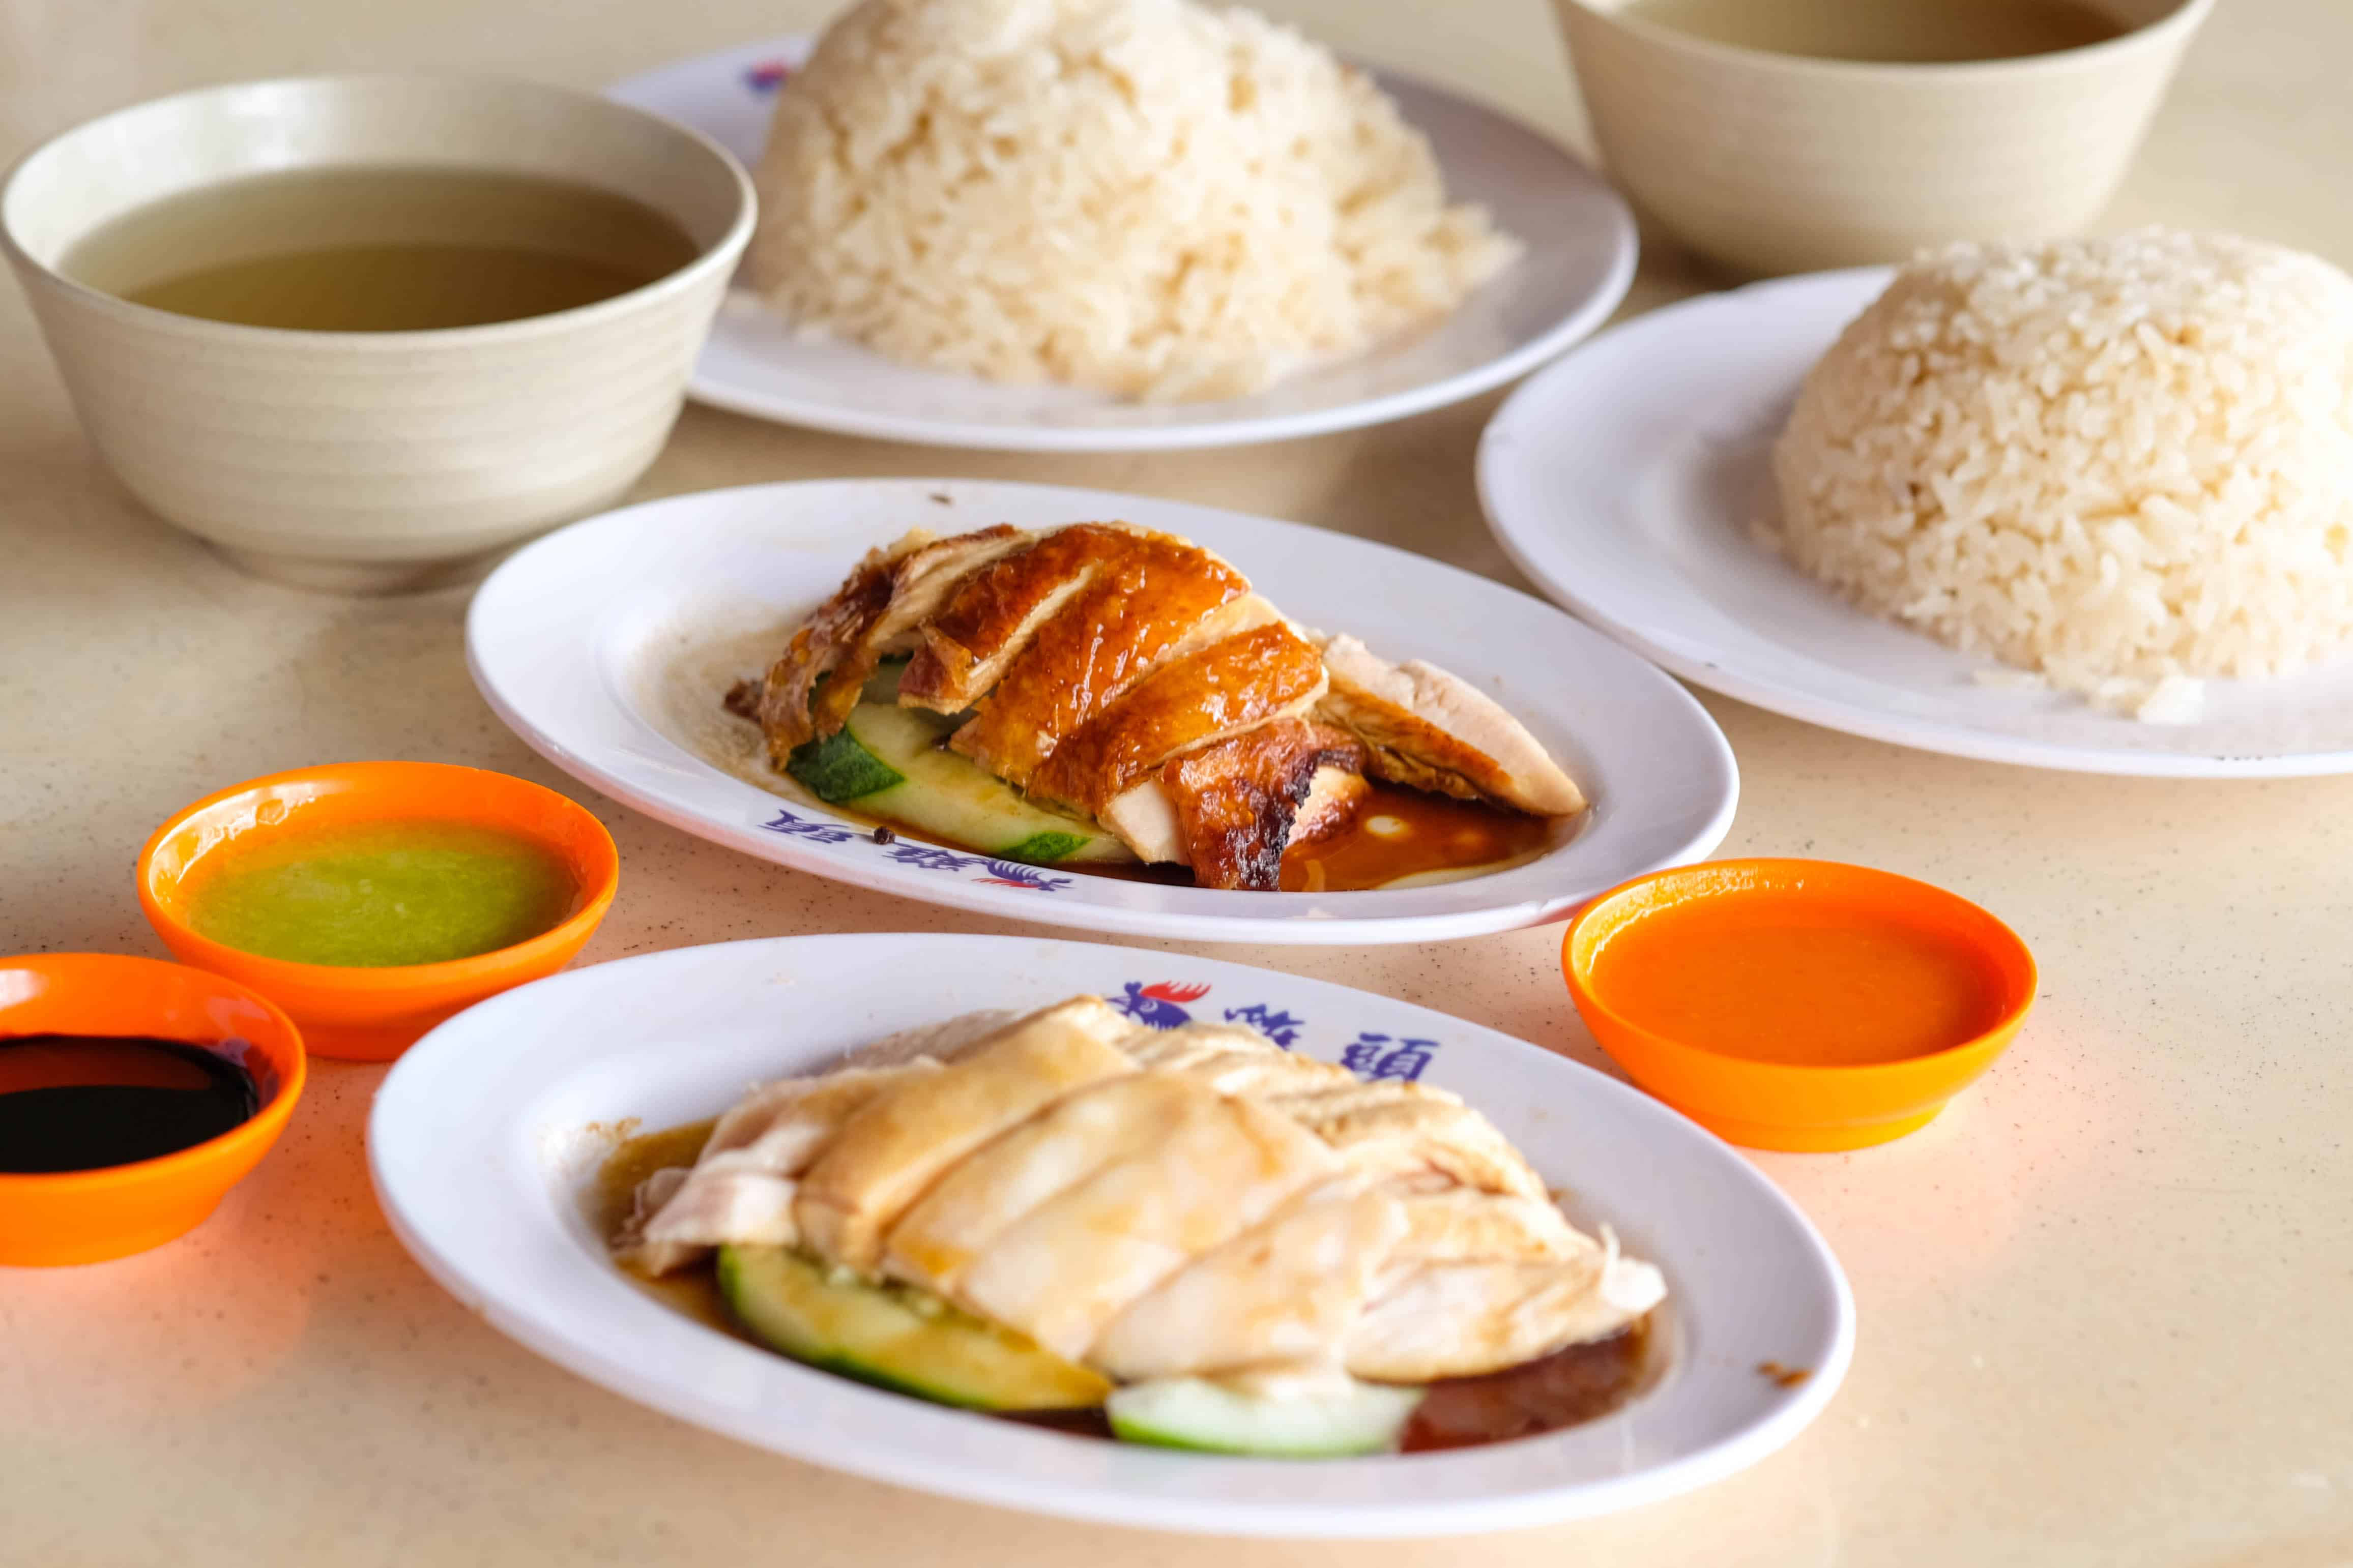Steamed Chicken Rice: (657, 980, 1677, 1407)
